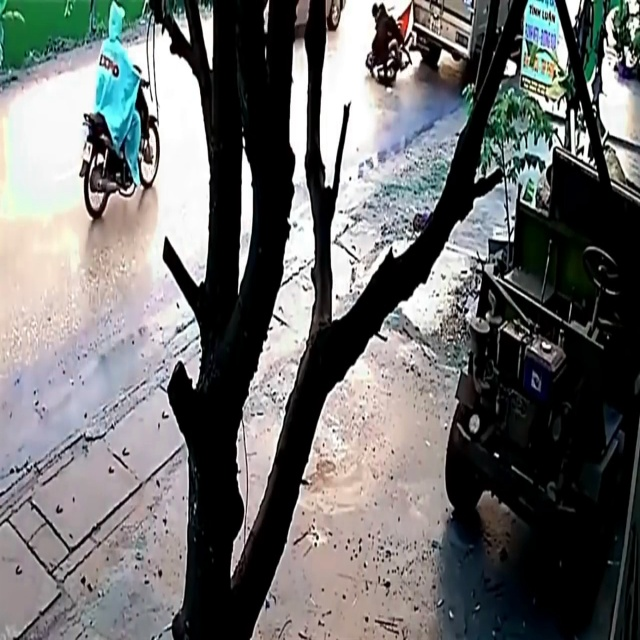acc: (359, 1, 453, 79)
